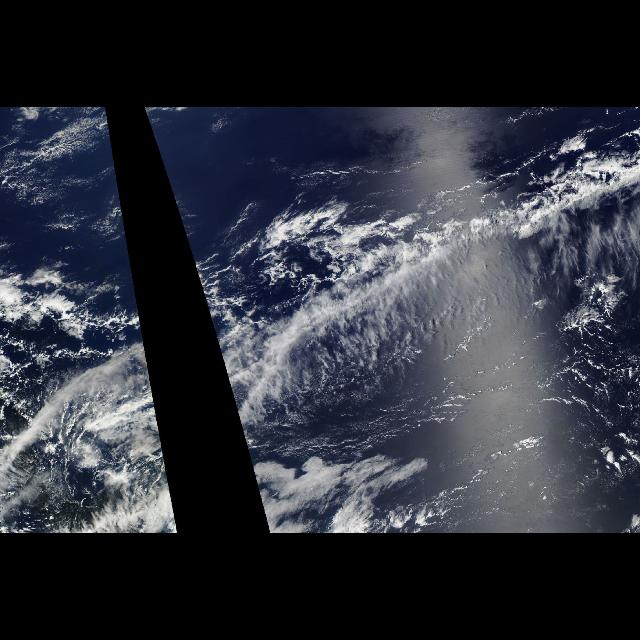Fish: (158, 148, 632, 482), (10, 148, 168, 482)
Sugar: (426, 382, 574, 532), (13, 113, 129, 250), (144, 112, 242, 248)
